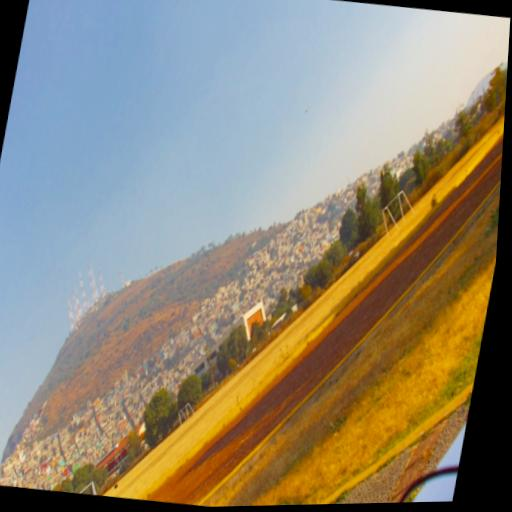drones: (302, 103, 311, 117)
